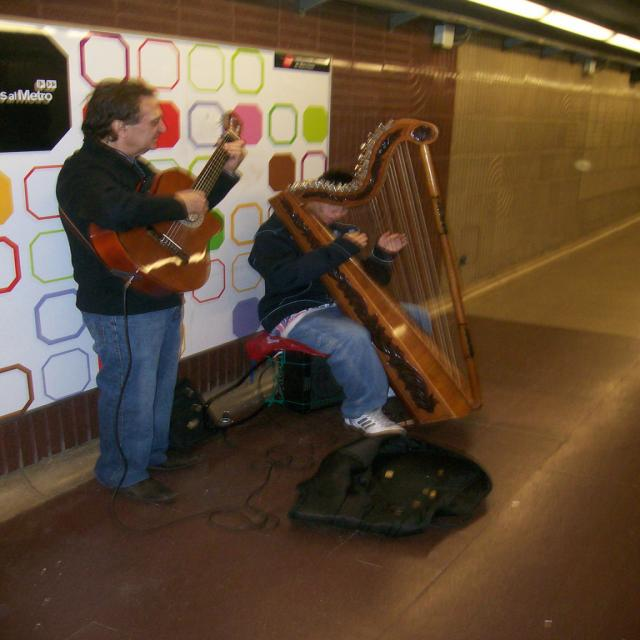guitar: (89, 108, 250, 294)
harp: (270, 112, 490, 423)
